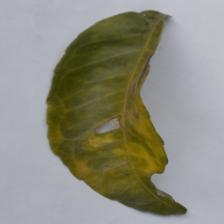greening: (40, 24, 166, 183)
